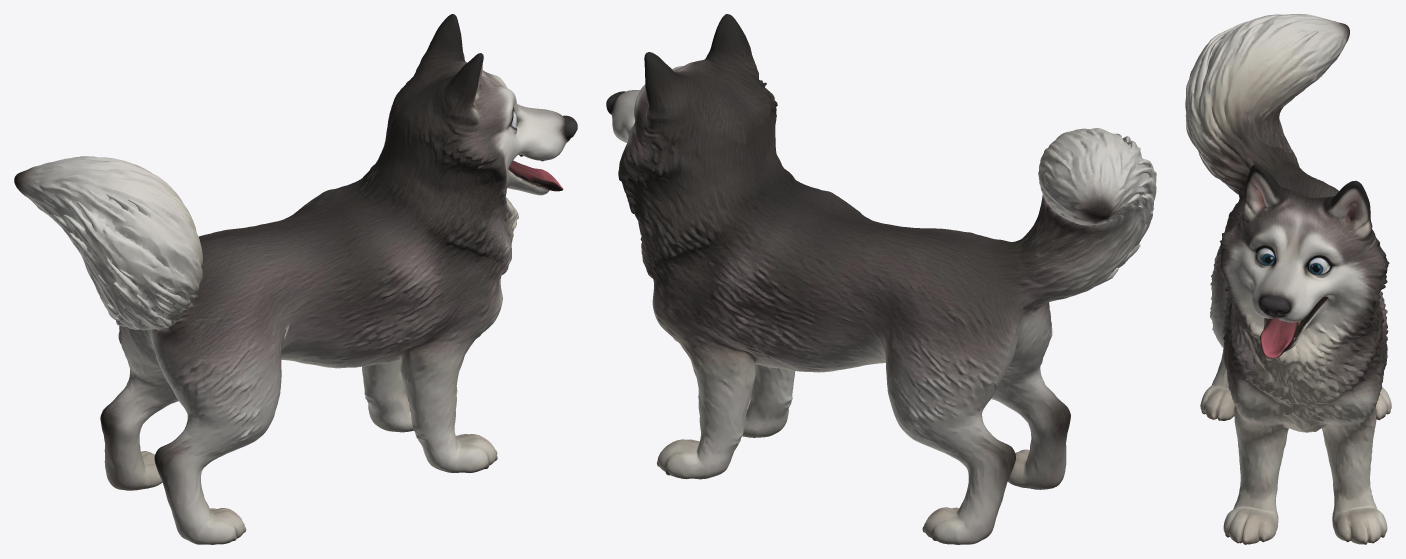
The model's file is husky.glb.
The picture shows the model from 3 angles, left to right: view 1: azimuth 30°, elevation 25°; view 2: azimuth 150°, elevation 25°; view 3: azimuth 270°, elevation 25°; orthographic projection. The views are drawn at different scales.
Visible parts, largest first — view 1: tripo_node_cd96ee31-c4ce-4175-a604-008cd95e0f44; view 2: tripo_node_cd96ee31-c4ce-4175-a604-008cd95e0f44; view 3: tripo_node_cd96ee31-c4ce-4175-a604-008cd95e0f44.
Boxes of the visible parts, bbox=[...] form: tripo_node_cd96ee31-c4ce-4175-a604-008cd95e0f44: bbox=[14, 14, 577, 544]; tripo_node_cd96ee31-c4ce-4175-a604-008cd95e0f44: bbox=[606, 14, 1156, 544]; tripo_node_cd96ee31-c4ce-4175-a604-008cd95e0f44: bbox=[1185, 14, 1391, 544].
Bounding box in the file's own units: 1 × 0.7374 × 0.3627.
Materials: 1 (1 with a texture image).
